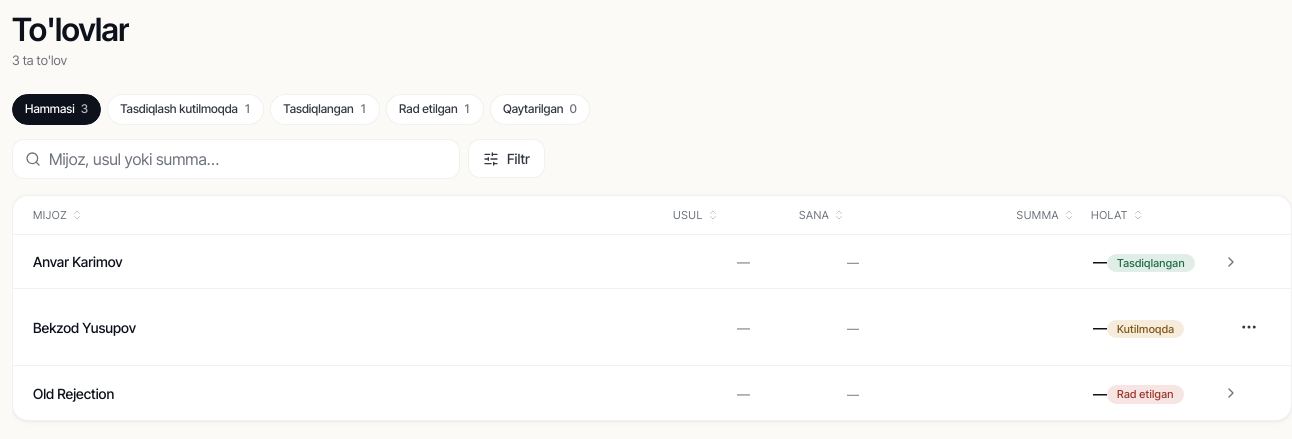
Scenario: status tabs are the single, always-visible status control › clicking a tab asks the server for that status and shows its row
Expected: the text "Anvar Karimov" is shown, [33,253,123,270]
Expected: the text "Old Rejection" is shown, [33,385,114,402]
Click the tab "Rad etilgan1": (435, 109) [386,94,484,125]
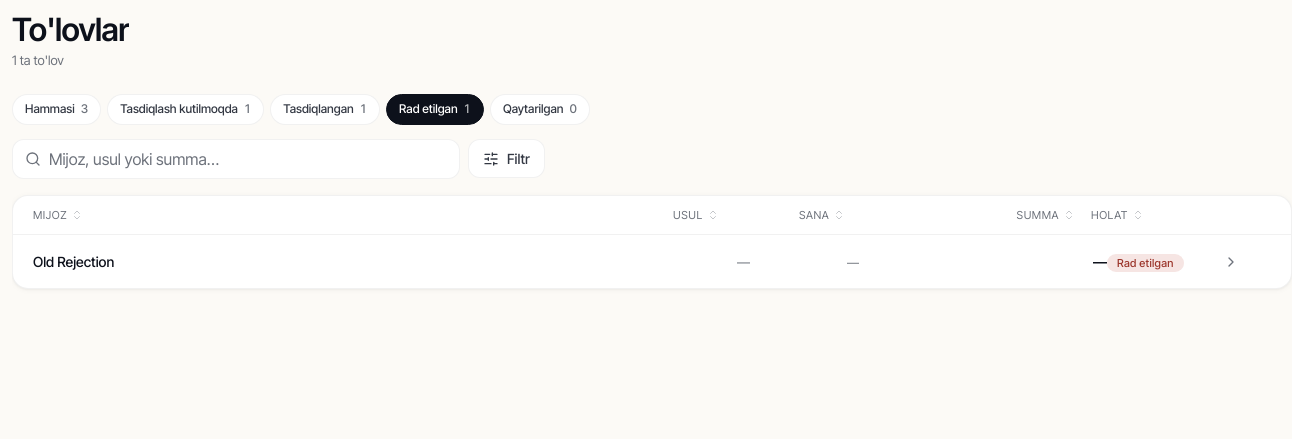
Expected: the text "Old Rejection" is shown, [33,253,114,270]
Expected: the text "Anvar Karimov" is gone
